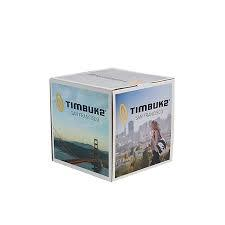cube: (51, 69, 173, 181)
